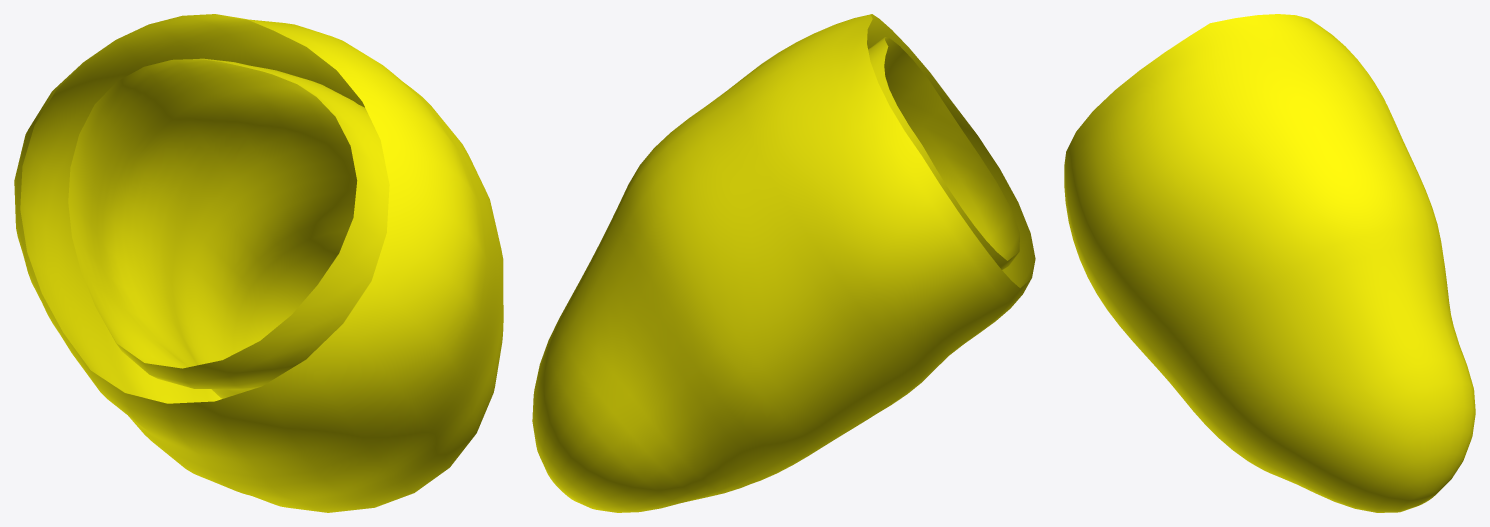
The model's file is heart1.gltf.
3 views of the same model, side by side, from view 1: azimuth 30°, elevation 25°; view 2: azimuth 150°, elevation 25°; view 3: azimuth 270°, elevation 25° (orthographic). The views are drawn at different scales.
Parts seen in each view (by area): view 1: heart_outer, heart_inner; view 2: heart_outer, heart_inner; view 3: heart_outer.
Part boxes in pixels (x1,y1,x2,y2): heart_outer: (14,14,503,512); heart_inner: (68,58,389,398); heart_outer: (532,14,1035,512); heart_inner: (868,37,1019,269); heart_outer: (1064,14,1475,512).
Size of the model in its own units: 8.49 by 9.32 by 8.48.
